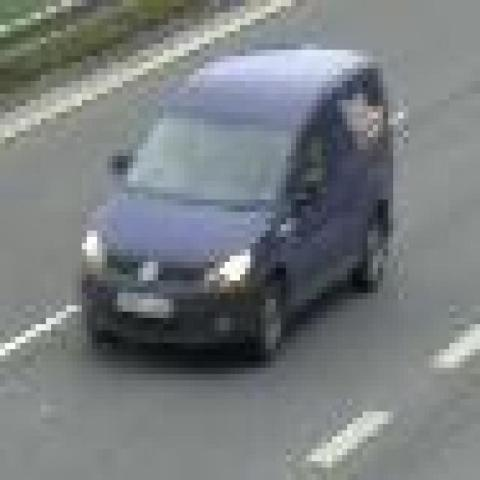van: (84, 50, 391, 356)
